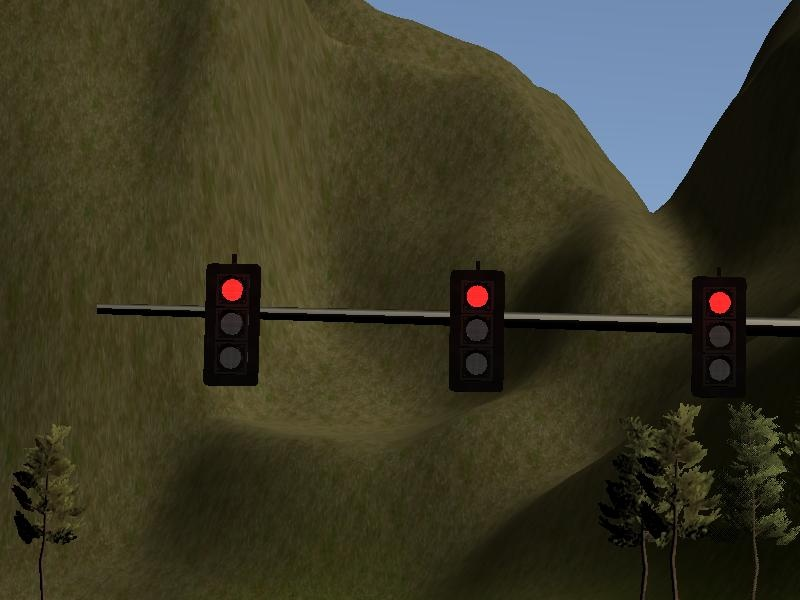red: (193, 262, 269, 390), (687, 273, 754, 403), (446, 264, 510, 397)
